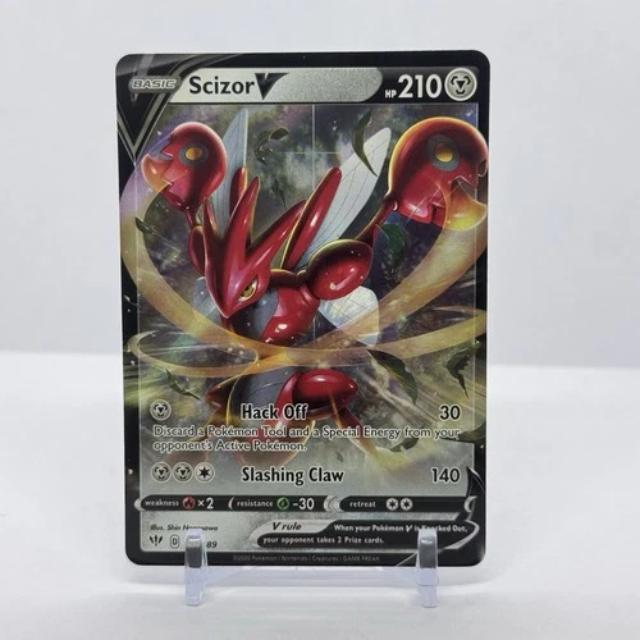Card: (114, 45, 495, 573)
Name: (179, 67, 300, 100)
